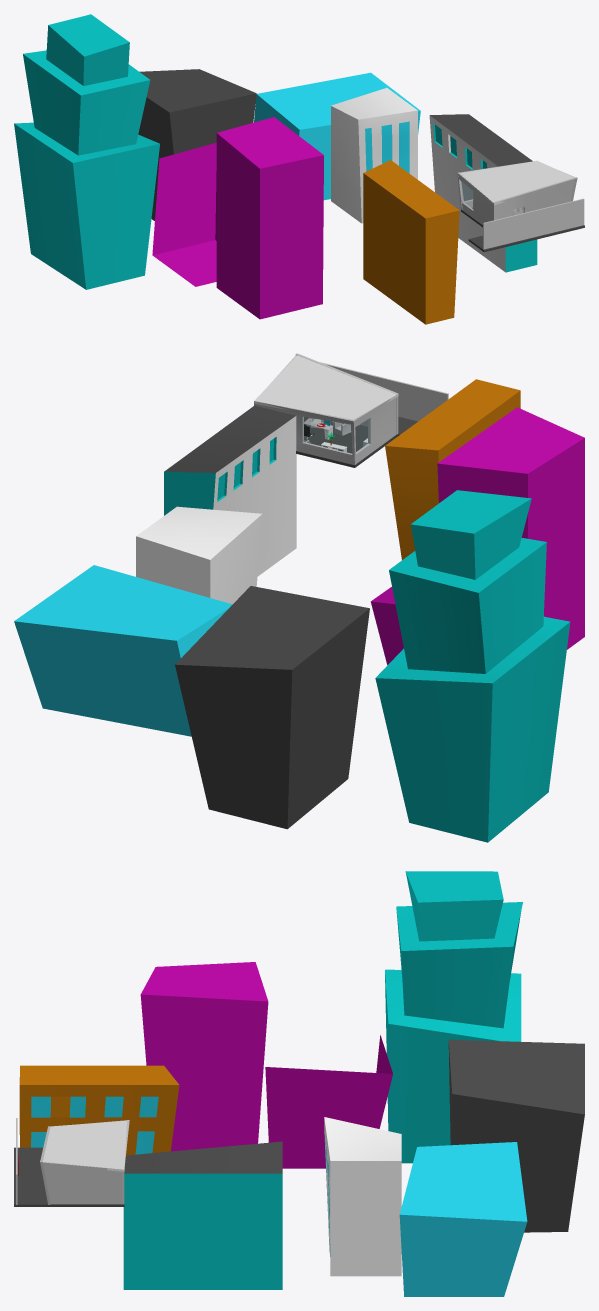
Rendered from office - schra_g_mod_0006.fbx.
3 renders of one model, top to bottom at view 1: azimuth 30°, elevation 25°; view 2: azimuth 150°, elevation 25°; view 3: azimuth 270°, elevation 25°, orthographic. The views are drawn at different scales.
Visible parts, largest first — view 1: Haus_3, Würfel_1, Würfel, Würfel_2, Haus_2, Haus_3_2, Haus_1, Würfel_3, Würfel_4, decke, Würfel_2_14, Würfel_4_9 (+1 smaller); view 2: Haus_3, Haus_3_2, Würfel_3, Würfel_1, Haus_1, Haus_2, Würfel, decke, Würfel_4, Würfel_19, Würfel_1_13, Würfel_2 (+1 smaller); view 3: Haus_3, Haus_1, Würfel_1, Haus_3_2, Würfel_3, Haus_2, Würfel, Würfel_2, decke, Würfel_3_13, Würfel_19.
Boxes of the visible parts, bbox=[...] form: Haus_3: bbox=[14, 14, 159, 289]; Würfel_1: bbox=[216, 117, 323, 319]; Würfel: bbox=[363, 160, 459, 324]; Würfel_2: bbox=[152, 142, 216, 286]; Haus_2: bbox=[331, 88, 417, 223]; Haus_3_2: bbox=[138, 69, 256, 220]; Haus_1: bbox=[429, 114, 537, 272]; Würfel_3: bbox=[254, 72, 420, 200]; Würfel_4: bbox=[483, 198, 584, 249]; decke: bbox=[460, 160, 574, 205]; Würfel_2_14: bbox=[493, 177, 577, 220]; Würfel_4_9: bbox=[458, 172, 492, 224]; Haus_3: bbox=[375, 490, 570, 842]; Haus_3_2: bbox=[175, 586, 369, 829]; Würfel_3: bbox=[14, 565, 232, 736]; Würfel_1: bbox=[437, 407, 584, 649]; Haus_1: bbox=[164, 405, 296, 576]; Haus_2: bbox=[136, 506, 262, 604]; Würfel: bbox=[385, 379, 520, 559]; decke: bbox=[254, 355, 398, 419]; Würfel_4: bbox=[321, 362, 448, 421]; Würfel_19: bbox=[296, 416, 417, 467]; Würfel_1_13: bbox=[254, 401, 356, 464]; Würfel_2: bbox=[370, 587, 403, 664]; Haus_3: bbox=[385, 871, 522, 1163]; Haus_1: bbox=[123, 1141, 282, 1289]; Würfel_1: bbox=[140, 962, 268, 1151]; Haus_3_2: bbox=[448, 1039, 584, 1232]; Würfel_3: bbox=[399, 1142, 527, 1296]; Haus_2: bbox=[324, 1117, 401, 1276]; Würfel: bbox=[19, 1065, 179, 1155]; Würfel_2: bbox=[265, 1035, 392, 1168]; decke: bbox=[42, 1120, 126, 1171]; Würfel_3_13: bbox=[40, 1161, 121, 1204]; Würfel_19: bbox=[14, 1147, 124, 1206].
Size of the model in its own units: 3770 by 2285 by 4477.
